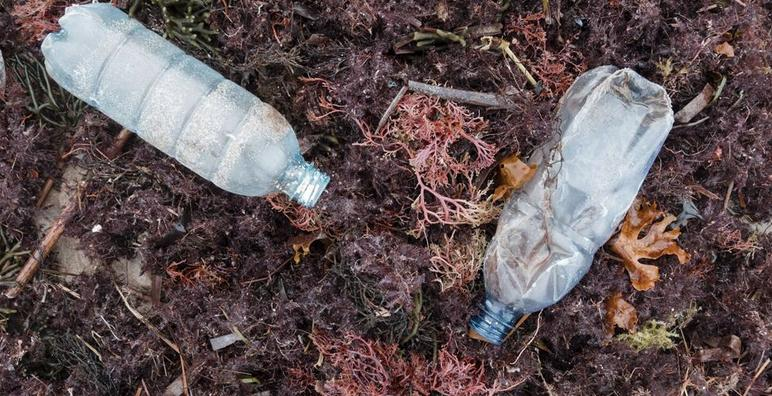Plastic: (38, 0, 332, 233), (463, 62, 678, 358)
